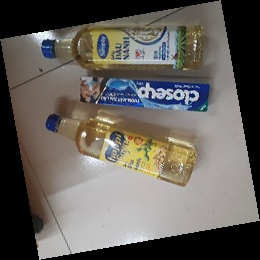CloseUp Tuyet: (78, 75, 211, 114)
Happy Soya: (45, 112, 197, 190)
Simply: (41, 24, 205, 71)
